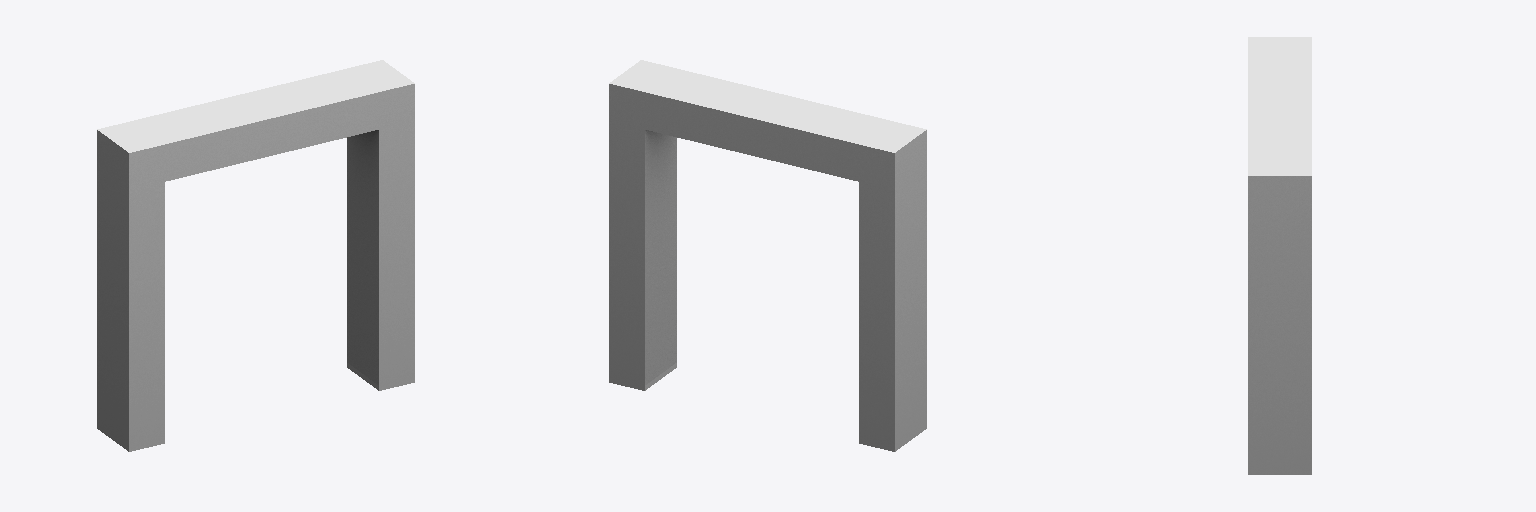
3 renders of one model, left to right at view 1: azimuth 30°, elevation 25°; view 2: azimuth 150°, elevation 25°; view 3: azimuth 270°, elevation 25°, orthographic.
Visible parts, largest first — view 1: Plane; view 2: Plane; view 3: Plane.
Part boxes in pixels (x1,y1,x2,y2): Plane: (97,60,414,451); Plane: (609,60,926,451); Plane: (1248,37,1311,474).
Size of the model in its own units: 2 by 2 by 0.3921.
1 materials, 1 textured.